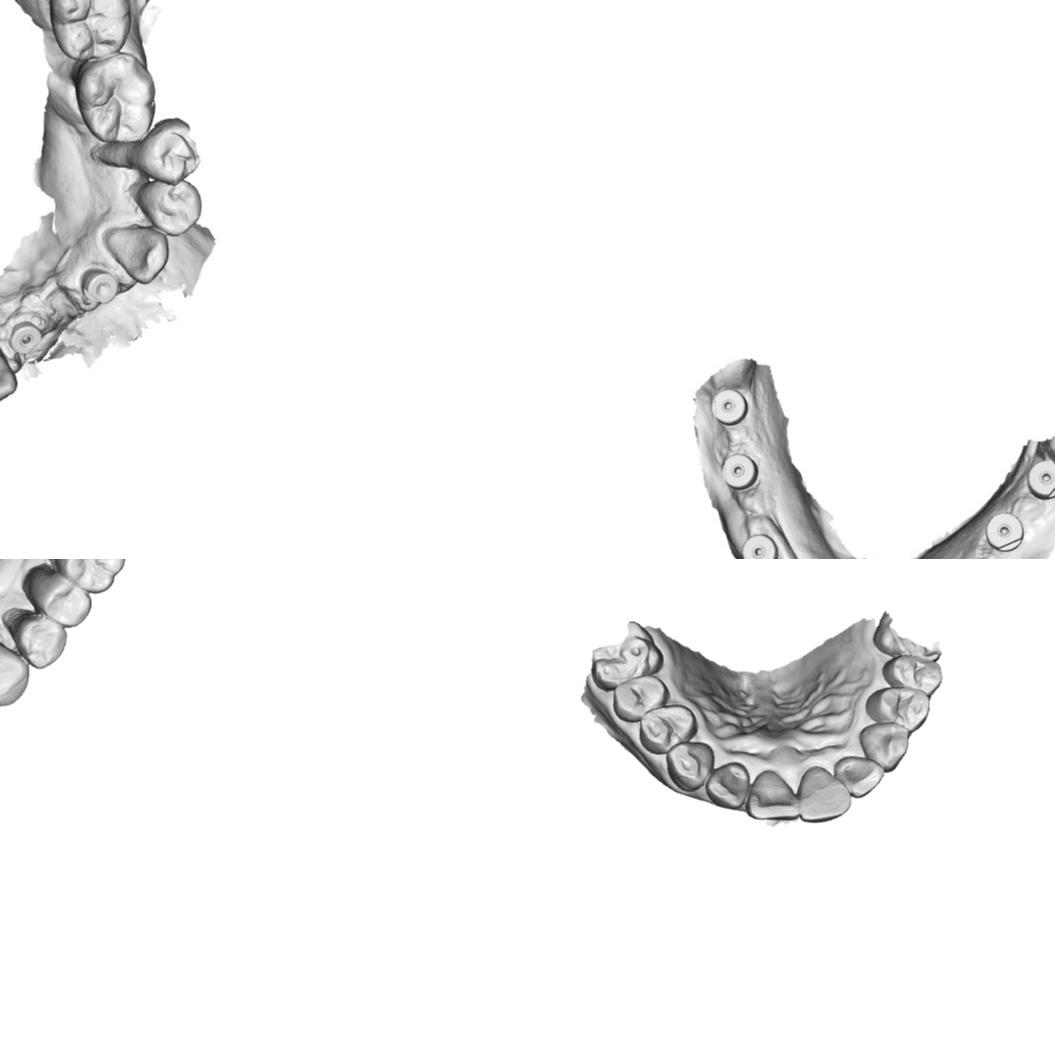canine: (100, 221, 169, 284), (859, 721, 910, 773), (665, 740, 715, 792), (0, 640, 30, 706), (0, 326, 17, 408)
implant: (972, 503, 1033, 559), (708, 375, 758, 434), (1016, 447, 1055, 509), (732, 525, 795, 559), (719, 444, 765, 490), (87, 271, 122, 307), (8, 316, 42, 353)
incisor: (798, 765, 852, 824), (744, 769, 800, 821), (832, 755, 885, 798), (704, 762, 750, 810)
molar: (83, 58, 155, 145), (590, 618, 664, 693), (54, 0, 126, 62), (52, 559, 126, 594)
premolar: (25, 566, 92, 628), (129, 120, 195, 180), (5, 606, 67, 669), (137, 173, 196, 235), (865, 686, 930, 734), (638, 704, 698, 756), (612, 674, 670, 723), (880, 653, 942, 696)
